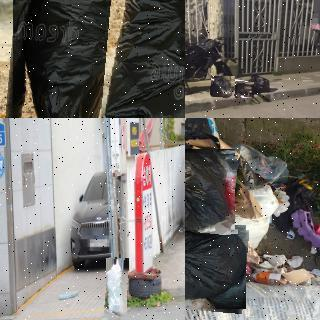Garbage: (7, 0, 133, 118), (102, 0, 185, 118), (185, 278, 320, 320), (185, 222, 247, 311), (185, 146, 236, 232), (105, 258, 128, 318), (211, 75, 235, 98), (248, 76, 273, 94), (235, 82, 254, 98)
